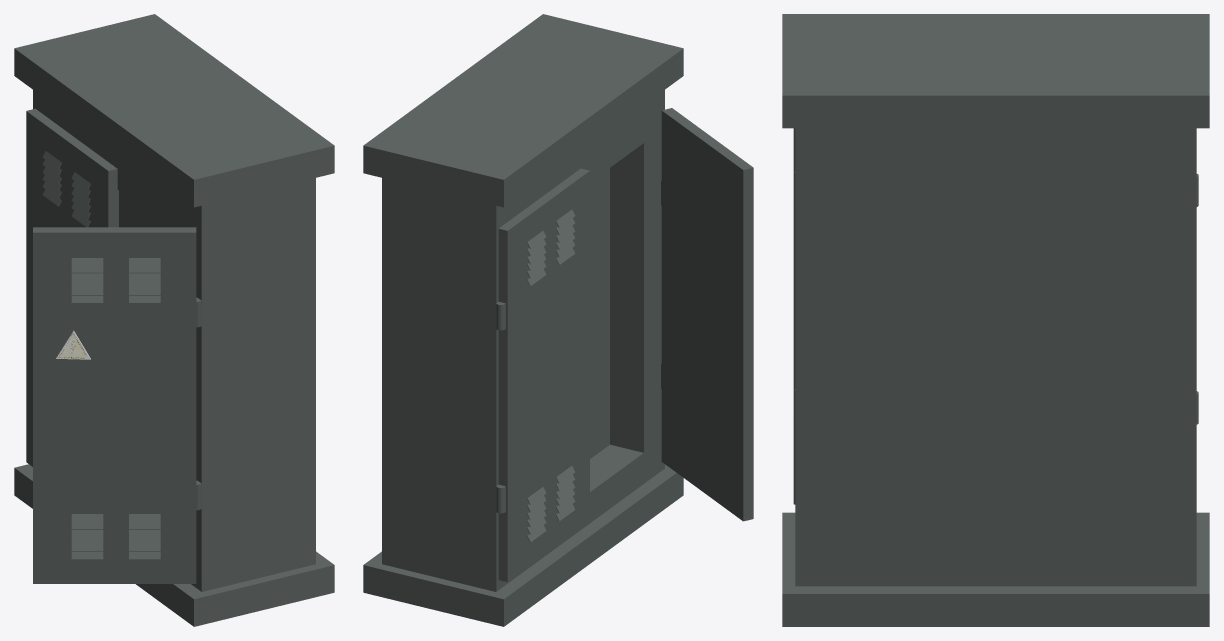
Rendered from Shkaf1.fbx.
The picture shows the model from 3 angles, left to right: view 1: azimuth 30°, elevation 25°; view 2: azimuth 150°, elevation 25°; view 3: azimuth 270°, elevation 25°; orthographic projection. The views are drawn at different scales.
Parts seen in each view (by area): view 1: Куб.001, Цилиндр.003, Цилиндр, Куб; view 2: Куб.001, Цилиндр.003, Цилиндр; view 3: Куб.001, Цилиндр.003.
Part boxes in pixels (x1,y1,x2,y2): Куб.001: (14,14,334,626); Цилиндр.003: (33,227,201,583); Цилиндр: (26,108,118,466); Куб: (56,330,90,359); Куб.001: (363,14,683,626); Цилиндр.003: (661,108,753,521); Цилиндр: (496,168,589,582); Куб.001: (782,14,1209,626); Цилиндр.003: (793,128,795,504).
Size of the model in its own units: 1974 by 3292 by 2400.
Materials: 2 (1 with a texture image).
